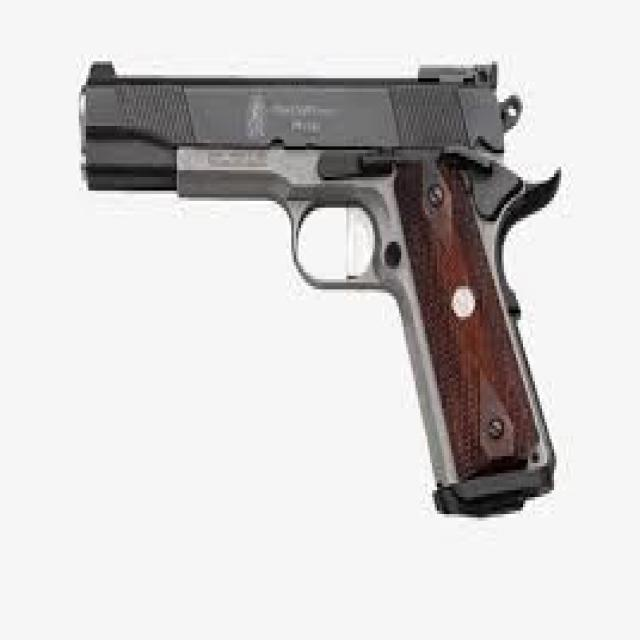semi automatic: (55, 19, 588, 540)
